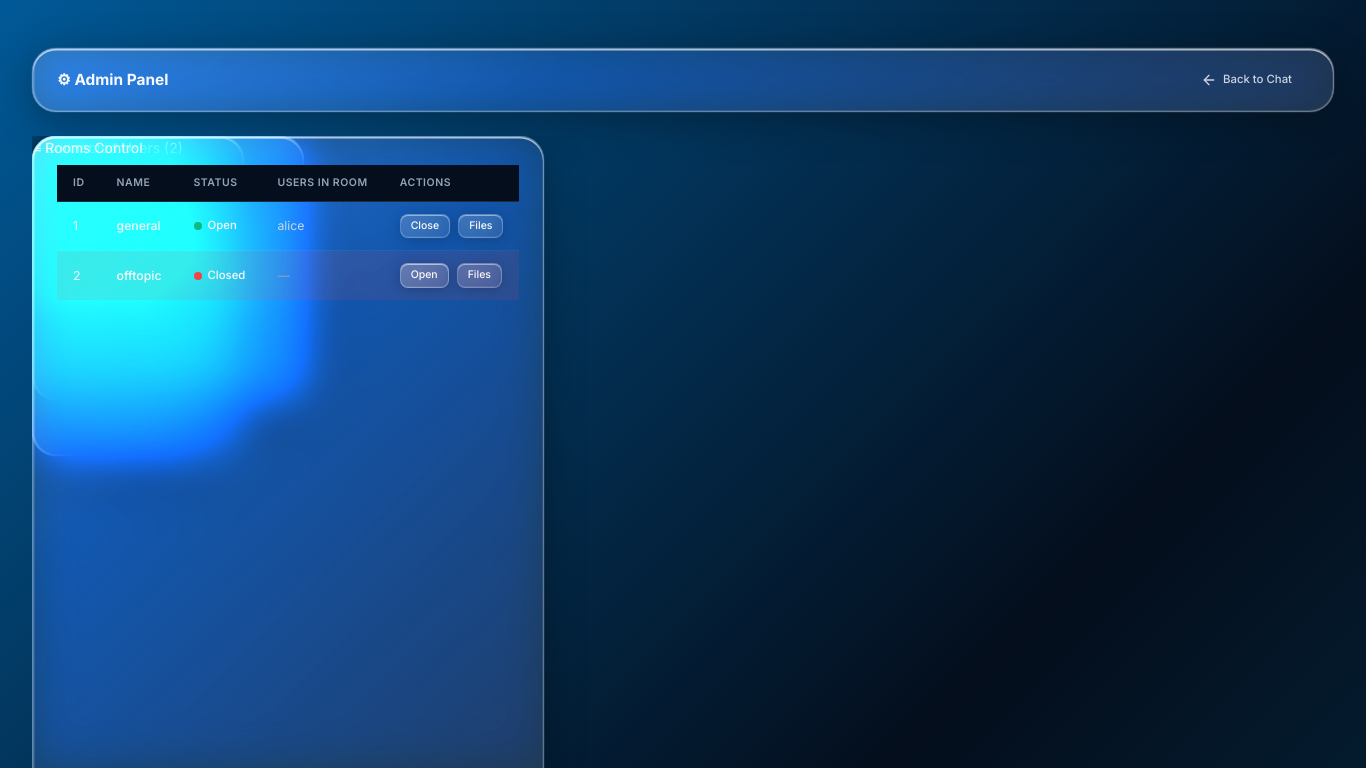
Test: AdminPage › shows room files when Files button is clicked
Expected: the text "general" is shown, [100,202,178,252]
Step 1. Click the button "Files" in the row of "general" → (481, 226), box [458,214,504,238]
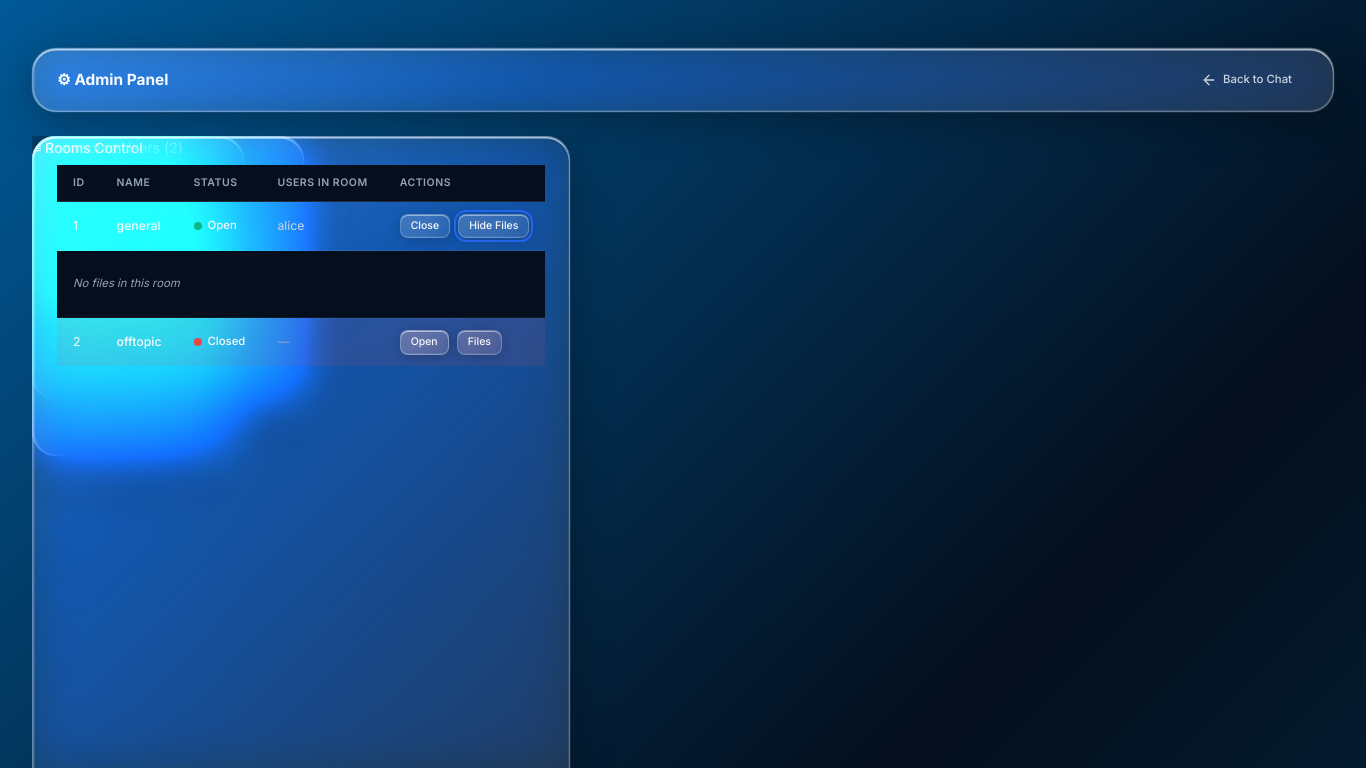
Result: the text "No files in this room" is shown at [73,276,180,290]
